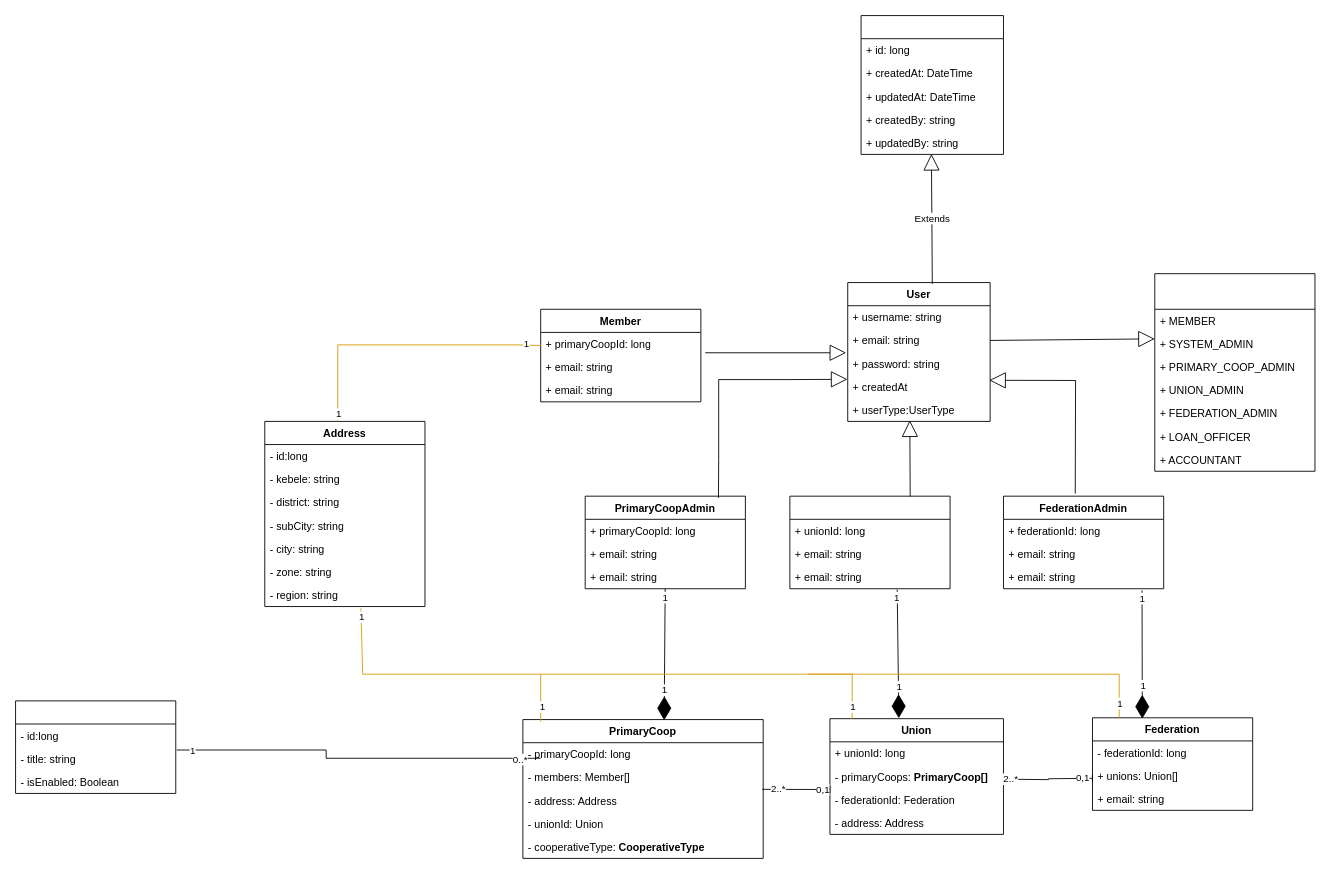
This 1331x877 diagram has some shape labels left out. Each missing label, with the box of its shape:
<<enum>> Role: (1154, 273, 1315, 471)
BaseEntity: (860, 15, 1003, 154)
CooperativeType: (15, 700, 176, 793)
UnionAdmin: (789, 495, 950, 589)
